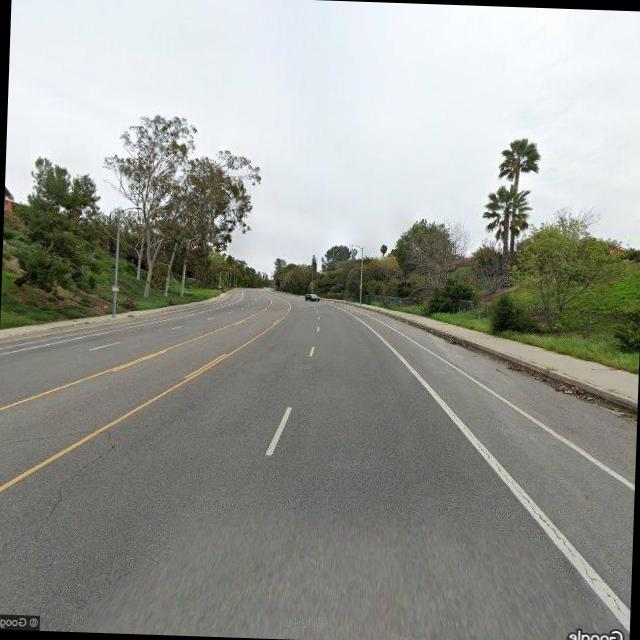crack: (27, 420, 119, 545)
